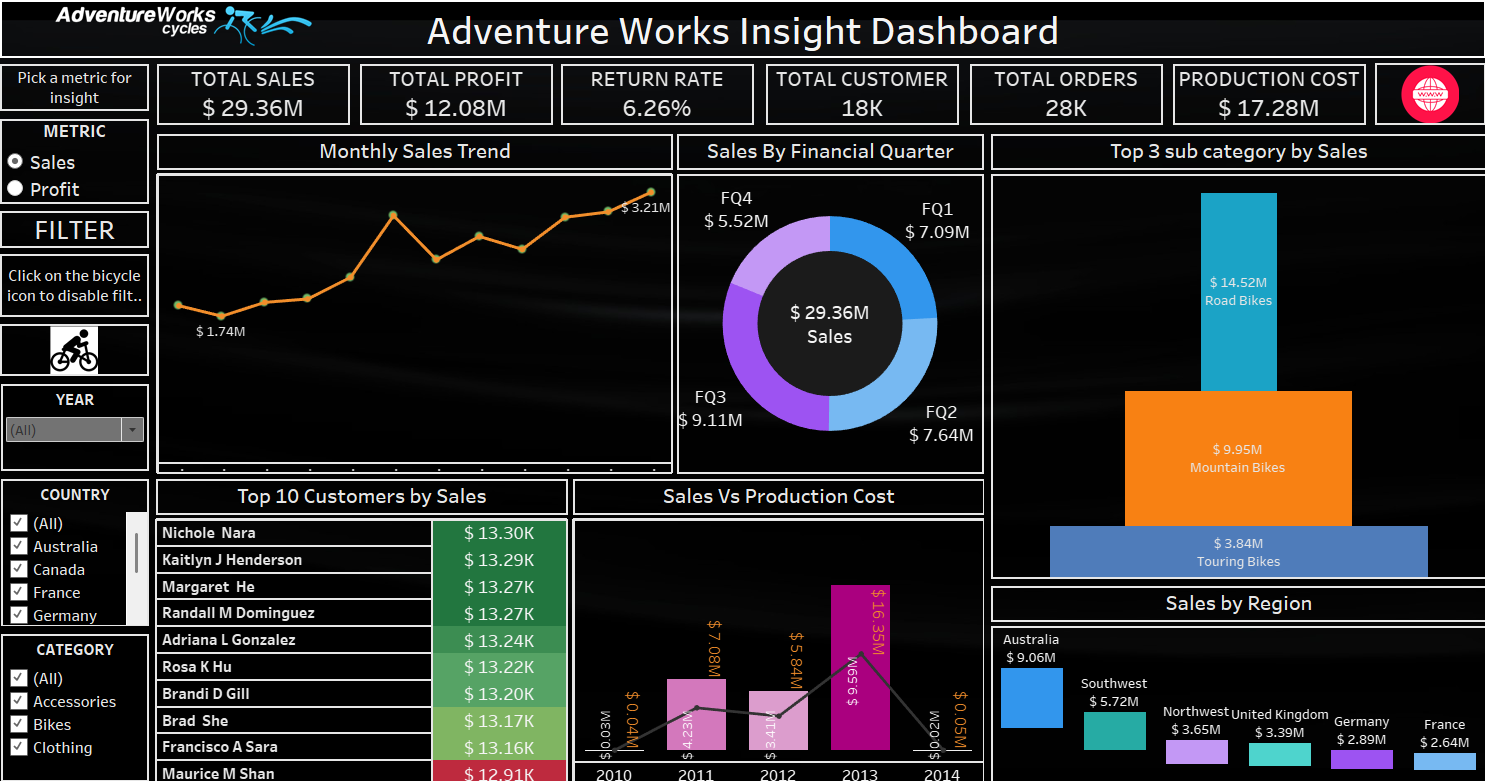

This screenshot's page, from the dashboard's own definition file:
{"tool":"tableau","page":{"name":"DASHBOARD","canvas":[1800,900],"ordinal":0},"visuals":[{"type":"image","param":"Image/darks.jpg","box":[0,0,1800,900]},{"type":"image","param":"Image/awc_logo.png","box":[69.8,6.7,322.9,61.9]},{"type":"text","box":[11,7,1783,65]},{"type":"dashboard-object","box":[1667,11,122,52]},{"type":"worksheet","title":"sales kpi","mark":"Automatic","box":[198,78,233,70]},{"type":"worksheet","title":"profit kpi","mark":"Automatic","box":[442,78,233,70]},{"type":"worksheet","title":"Return Rate kpi","mark":"Automatic","box":[683,78,233,70]},{"type":"worksheet","title":"tcustomer kpi","mark":"Automatic","box":[929,78,233,70]},{"type":"worksheet","title":"torders kpi","mark":"Automatic","box":[1173,78,233,70]},{"type":"worksheet","title":"Production kpi","mark":"Automatic","box":[1417,78,233,70]},{"type":"image","param":"Image/www.png","box":[1661,78,133,70]},{"type":"text","box":[11,79,179,53]},{"type":"image","param":"Image/Sales.png","box":[389.4,103.5,37.1,33.8]},{"type":"image","param":"Image/Profit.png","box":[630.5,104.6,37.1,33.8]},{"type":"image","param":"Image/return rate.jpg","box":[871.6,105.7,37.1,33.8]},{"type":"image","param":"Image/Sales.png","box":[1605.8,105.7,37.1,33.8]},{"type":"image","param":"Image/orders.png","box":[1361,107,37,34]},{"type":"image","param":"Image/customer.png","box":[1118,109,37,32]},{"type":"parameter","param":"[Parameters].[Parameter 1]","box":[11,141,179,96]},{"type":"worksheet","title":"trend line","mark":"Automatic","rows":["Calculation_1081989850785001474","Calculation_1081989850785001474"],"cols":["Date"],"box":[198,157,620,383]},{"type":"worksheet","title":"financialquarter","mark":"Pie","rows":["Calculation_1081989850452742144","Calculation_1081989850452742144"],"box":[822,157,370,383]},{"type":"worksheet","title":"funnel","mark":"Automatic","rows":["Calculation_1081989850785001474"],"box":[1199,157,596,501]},{"type":"text","box":[11,244,179,42]},{"type":"text","box":[11,292,179,71]},{"type":"dashboard-object","box":[11,371,179,59]},{"type":"filter","title":"funnel","param":"[federated.0deheol10xpysw11ccpfr0wrdhed].[yr:Date:ok]","box":[7,434,187,95]},{"type":"filter","title":"funnel","param":"[federated.0deheol10xpysw11ccpfr0wrdhed].[none:SalesTerritoryCountry:nk]","box":[7,529,187,204]},{"type":"worksheet","title":"TOP 10","mark":"Square","rows":["Customername"],"box":[197,546,495,348]},{"type":"worksheet","title":"sales vs production","mark":"Bar","rows":["Calculation_1081989850785001474","TotalProductCost"],"cols":["Date"],"box":[697,546,495,348]},{"type":"worksheet","title":"waterfall","mark":"GanttBar","rows":["Calculation_1081989850785001474"],"cols":["SalesTerritoryRegion"],"box":[1199,666,596,228]},{"type":"filter","title":"funnel","param":"[federated.0deheol10xpysw11ccpfr0wrdhed].[none:Productcategoryname:nk]","box":[7,733,187,158]}]}

Visuals, with their boxes in screenshot pixels (x1, y1, x2, y2):
image: 0, 0, 1484, 755
image: 43, 2, 316, 54
text: 0, 2, 1484, 57
dashboard-object: 1391, 5, 1484, 49
"sales kpi" worksheet: 152, 62, 348, 121
"profit kpi" worksheet: 357, 62, 554, 121
"Return Rate kpi" worksheet: 561, 62, 757, 121
"tcustomer kpi" worksheet: 768, 62, 965, 121
"torders kpi" worksheet: 974, 62, 1170, 121
"Production kpi" worksheet: 1180, 62, 1376, 121
image: 1386, 62, 1484, 121
text: 0, 63, 145, 107
image: 313, 83, 344, 112
image: 516, 84, 548, 113
image: 720, 85, 751, 114
image: 1339, 85, 1370, 114
image: 1133, 86, 1164, 115
image: 928, 88, 959, 115
parameter: 0, 115, 145, 196
"trend line" worksheet: 152, 129, 675, 452
"financialquarter" worksheet (Pie marks): 678, 129, 990, 452
"funnel" worksheet: 996, 129, 1484, 551
text: 0, 202, 145, 237
text: 0, 242, 145, 302
dashboard-object: 0, 309, 145, 359
"funnel" filter: 0, 362, 148, 442
"funnel" filter: 0, 442, 148, 614
"TOP 10" worksheet (Square marks): 151, 457, 568, 750
"sales vs production" worksheet (Bar marks): 572, 457, 990, 750
"waterfall" worksheet (GanttBar marks): 996, 558, 1484, 750
"funnel" filter: 0, 614, 148, 748
